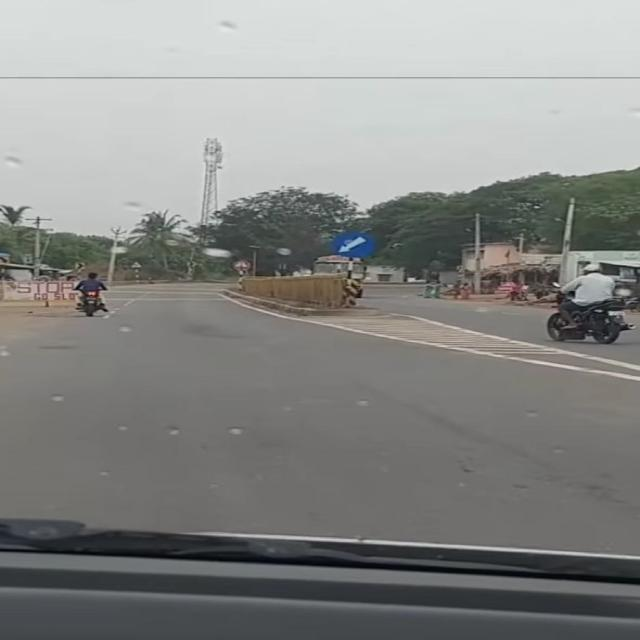compulsory_keep_left: (331, 231, 376, 259)
